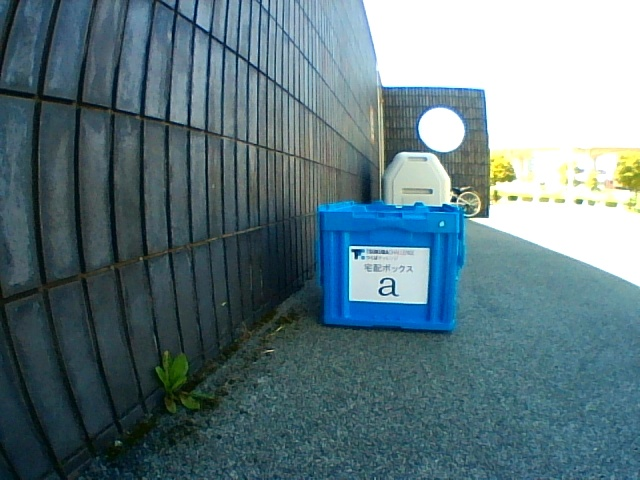blue_box: (317, 201, 465, 332)
tag_a: (353, 250, 426, 301)
